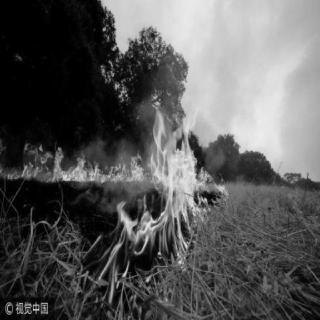Smoke: (279, 73, 313, 163)
